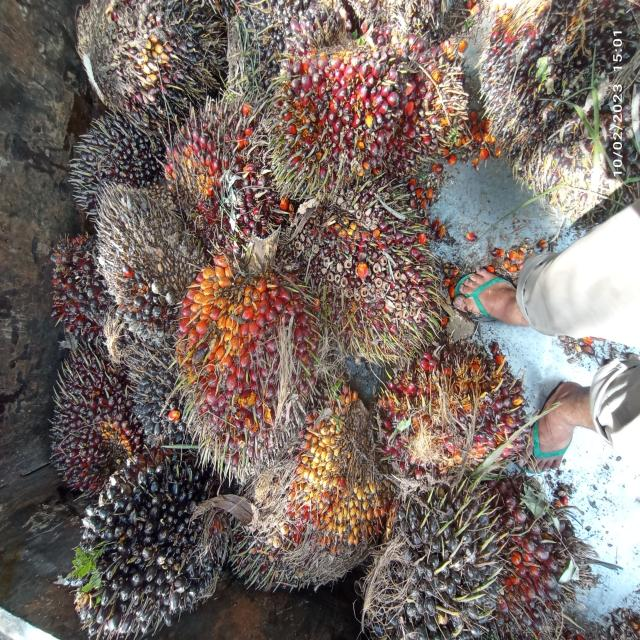fraksi 00: (221, 368, 391, 634), (59, 444, 233, 640), (492, 0, 640, 195), (375, 466, 499, 640), (156, 98, 254, 233), (118, 0, 215, 122), (75, 101, 162, 222), (126, 338, 193, 448)
fraksi 1: (303, 209, 486, 378), (389, 329, 528, 481), (49, 334, 137, 474), (47, 235, 127, 353)
fraksi 3: (176, 237, 326, 470), (285, 37, 442, 205)
